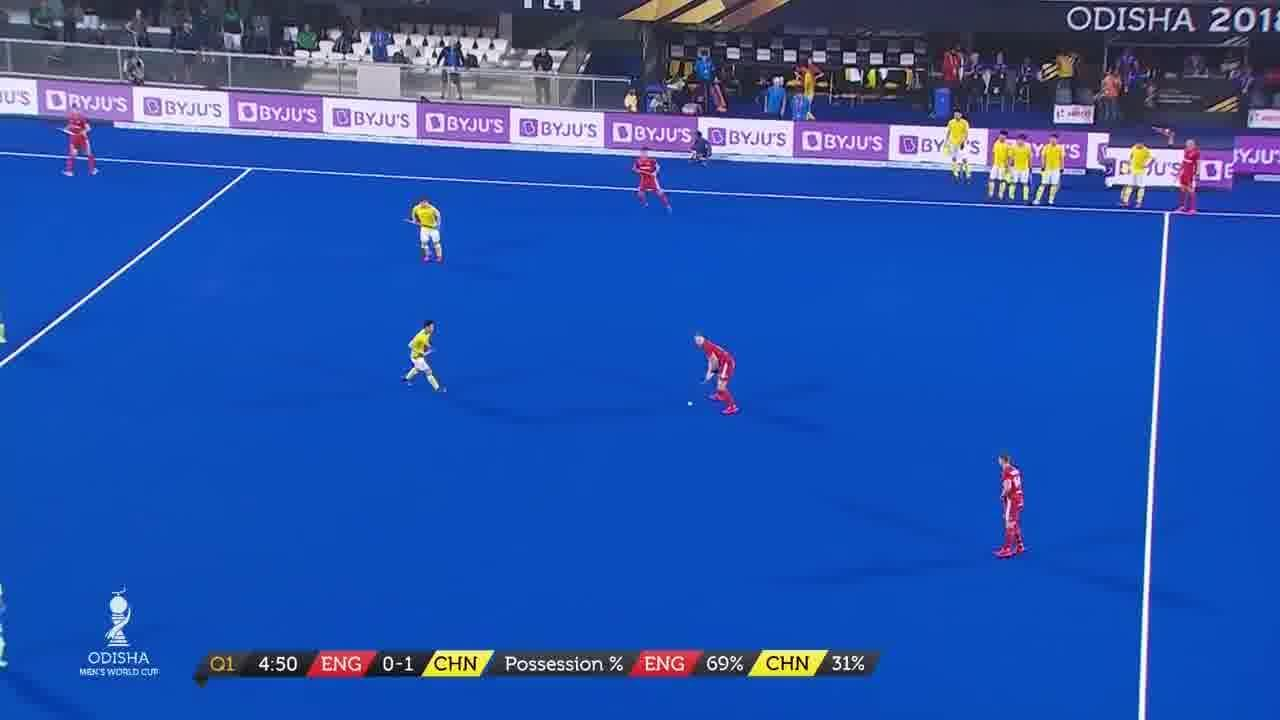ball: (680, 386, 703, 418)
